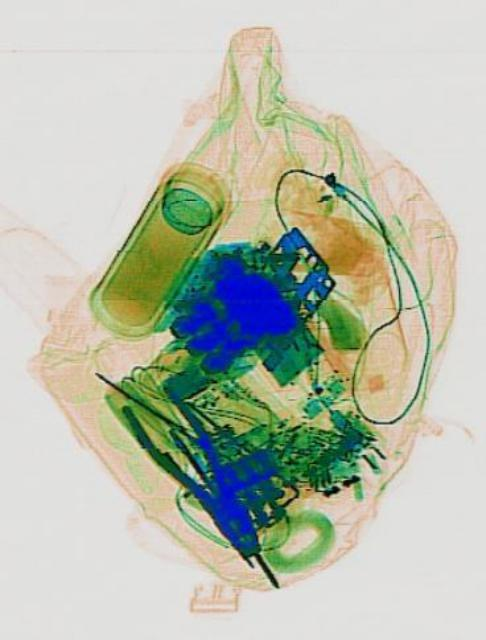Pliers: (115, 364, 275, 578)
